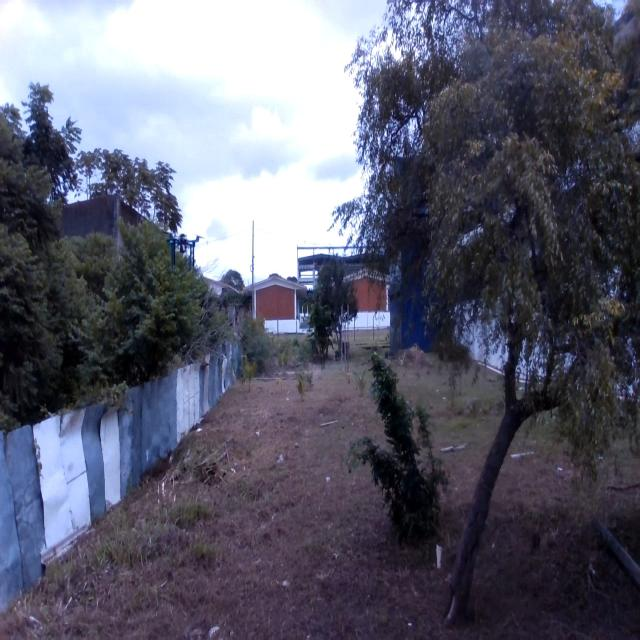-uav-: (161, 226, 213, 278)
